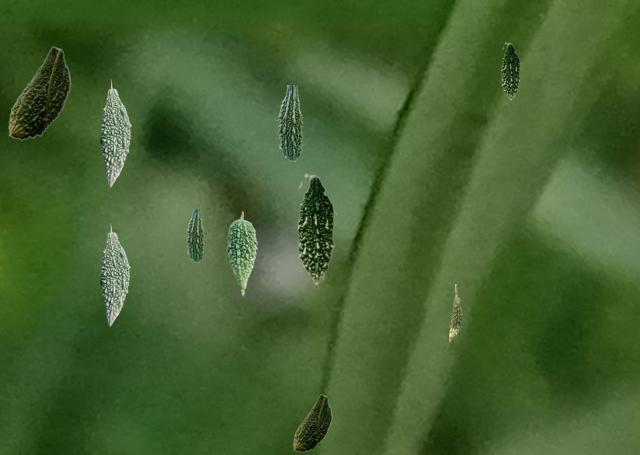ampalaya: (8, 46, 70, 139), (297, 173, 336, 284), (100, 79, 130, 186), (100, 223, 129, 325), (226, 211, 256, 295), (293, 394, 331, 451), (277, 85, 302, 160), (501, 42, 520, 99), (186, 209, 203, 261), (449, 284, 461, 341)
